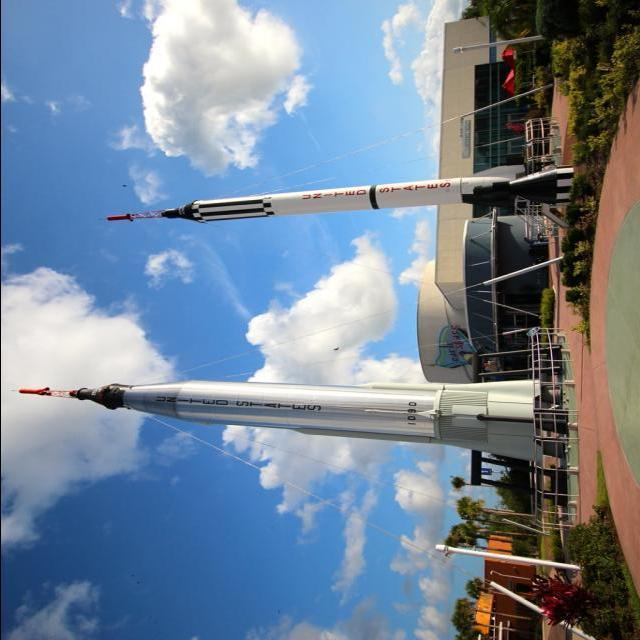missile: (6, 382, 563, 467), (99, 176, 506, 228)
